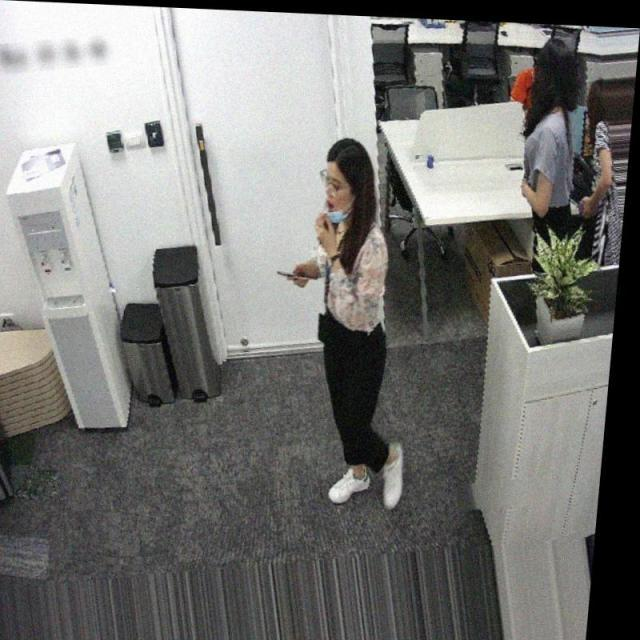hairnet: (326, 170, 358, 220)
